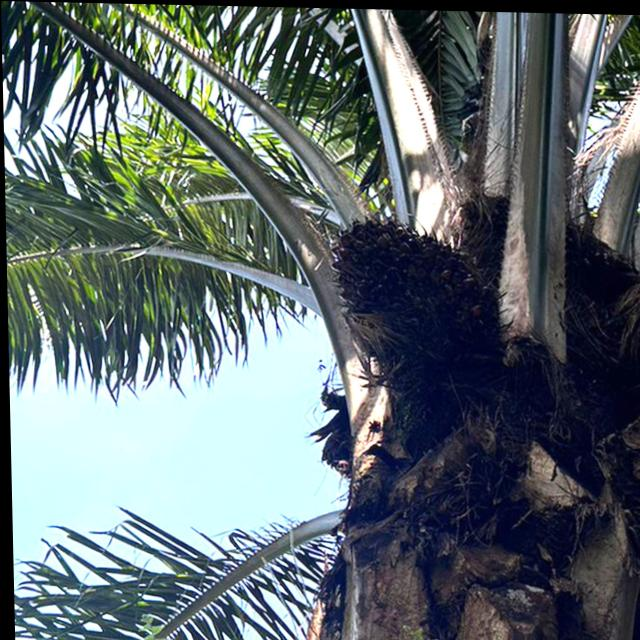ripe: (315, 194, 519, 395)
